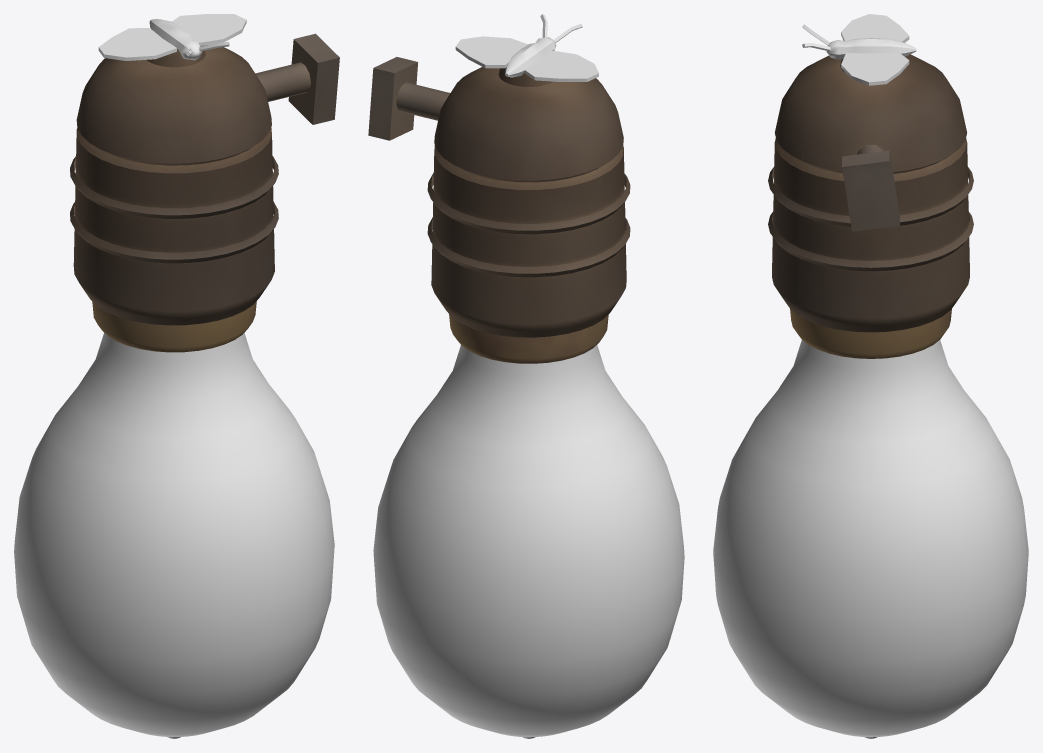
File: HangingBulbV2.fbx
3 renders of one model, left to right at view 1: azimuth 30°, elevation 25°; view 2: azimuth 150°, elevation 25°; view 3: azimuth 270°, elevation 25°, orthographic. The views are drawn at different scales.
Visible parts, largest first — view 1: Bulb_Glass, Bulb_Socket, Moth_WingR, Moth_WingL, Moth_Body; view 2: Bulb_Glass, Bulb_Socket, Moth_WingR, Moth_WingL, Moth_Body; view 3: Bulb_Glass, Bulb_Socket, Moth_WingL, Moth_Body, Moth_WingR.
Boxes of the visible parts, left/top/right/bottom form: Bulb_Glass: left=14, top=333, right=334, bottom=738; Bulb_Socket: left=70, top=33, right=339, bottom=352; Moth_WingR: left=98, top=28, right=176, bottom=60; Moth_WingL: left=172, top=14, right=246, bottom=46; Moth_Body: left=149, top=19, right=229, bottom=60; Bulb_Glass: left=373, top=344, right=684, bottom=738; Bulb_Socket: left=368, top=57, right=630, bottom=363; Moth_WingR: left=524, top=50, right=598, bottom=81; Moth_WingL: left=455, top=36, right=527, bottom=68; Moth_Body: left=505, top=14, right=582, bottom=77; Bulb_Glass: left=713, top=340, right=1028, bottom=738; Bulb_Socket: left=768, top=54, right=973, bottom=358; Moth_WingL: left=841, top=53, right=909, bottom=85; Moth_Body: left=802, top=24, right=916, bottom=59; Moth_WingR: left=841, top=14, right=909, bottom=42.
Bounding box in the file's own units: 9.58 × 22.64 × 9.18.
5 materials, 1 textured.
